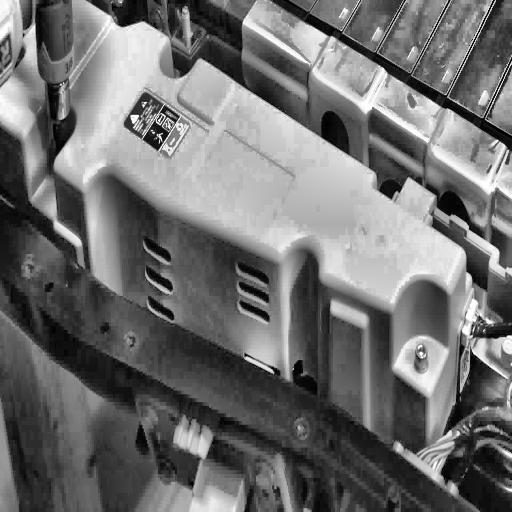busbar: (0, 0, 472, 457)
nut: (177, 6, 193, 50), (412, 342, 429, 374)
